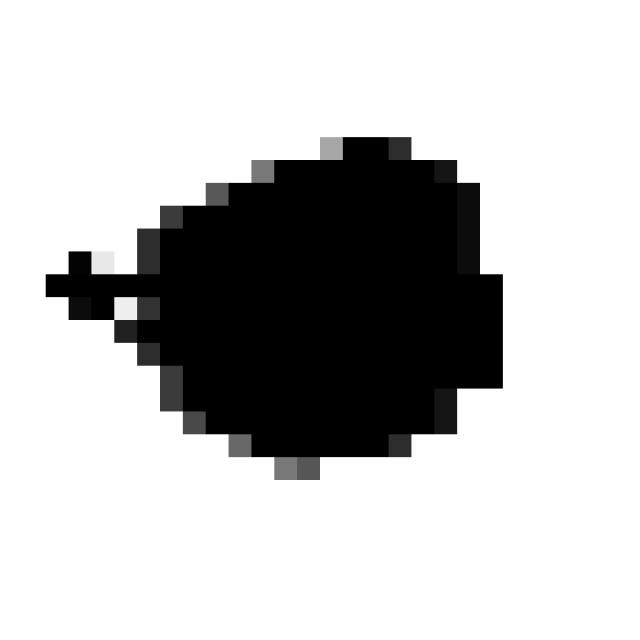0 -zero-: (35, 124, 518, 482)
